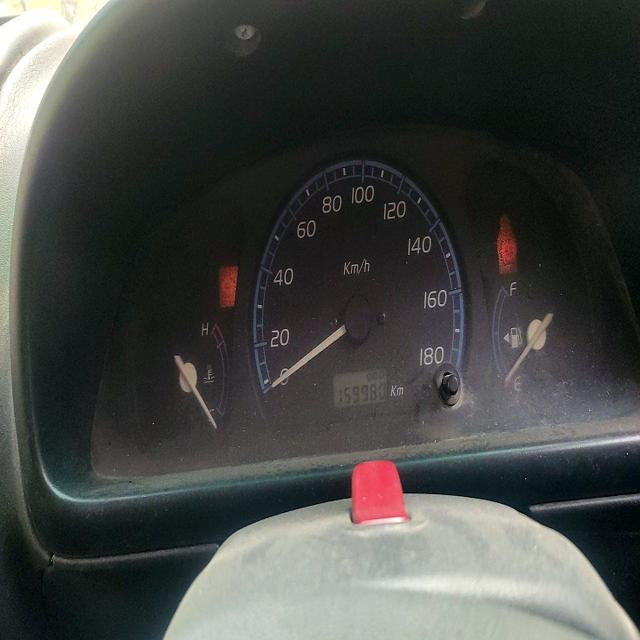odometer: (335, 379, 387, 408)
